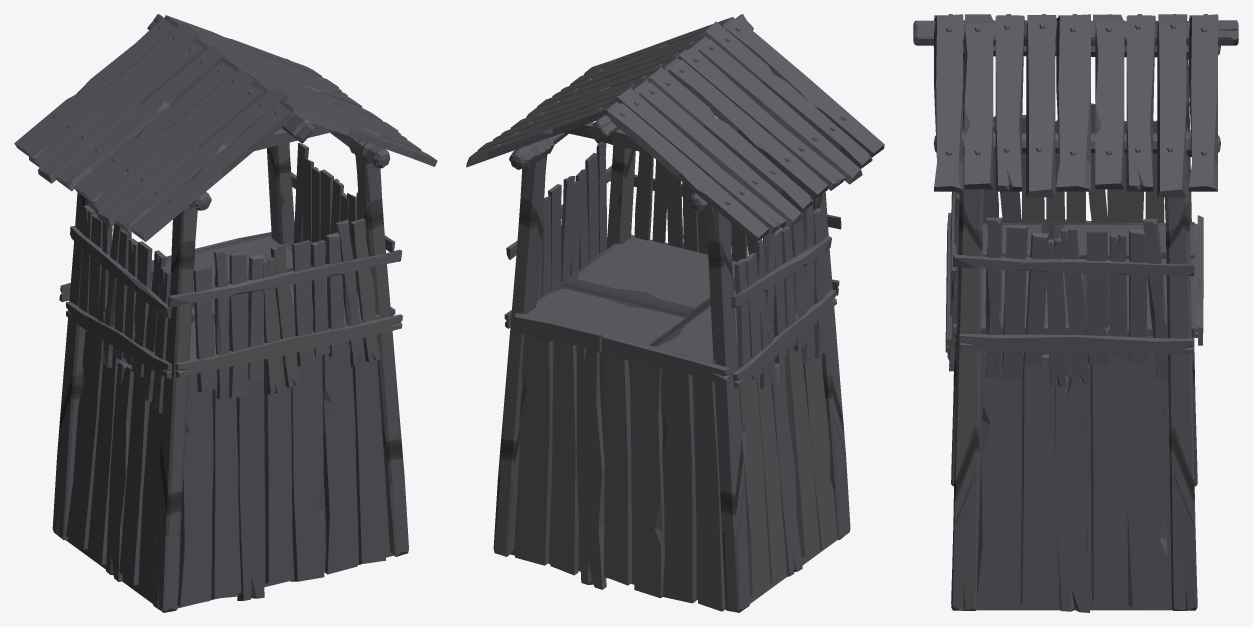
The model's file is kn_bld_turret.gltf.
3 views of the same model, side by side, from view 1: azimuth 30°, elevation 25°; view 2: azimuth 150°, elevation 25°; view 3: azimuth 270°, elevation 25° (orthographic). The views are drawn at different scales.
Parts seen in each view (by area): view 1: kn_bld_turret; view 2: kn_bld_turret; view 3: kn_bld_turret.
Boxes of the visible parts, x1,y1,x2,y2 form: kn_bld_turret: (14,14,437,612); kn_bld_turret: (466,14,884,612); kn_bld_turret: (913,14,1238,612).
Size of the model in its own units: 4.27 by 6.66 by 3.58.
Materials: 1 (1 with a texture image).
